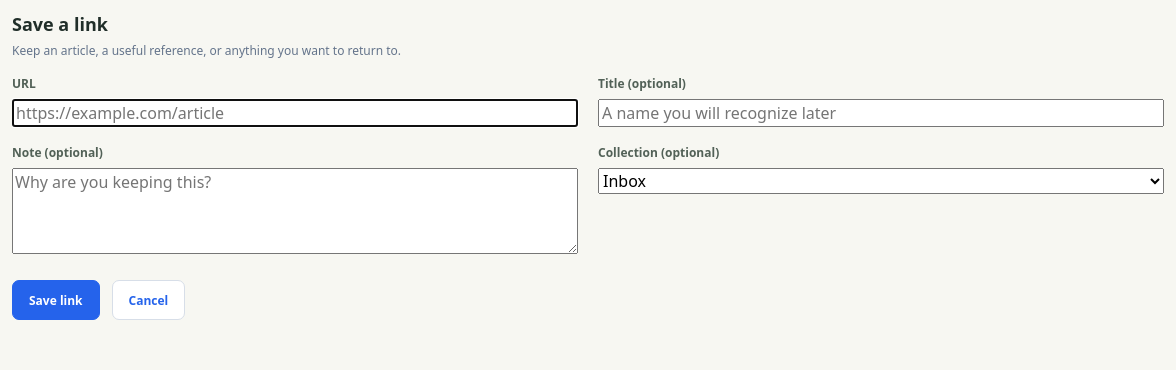
saves a canonical link with a note and an existing collection
Expected: the button "Save link" is enabled, [12,280,100,320]
Type "  A useful guide  " into the field labelled "Title (optional)" at (881, 113), box [598,99,1164,127]
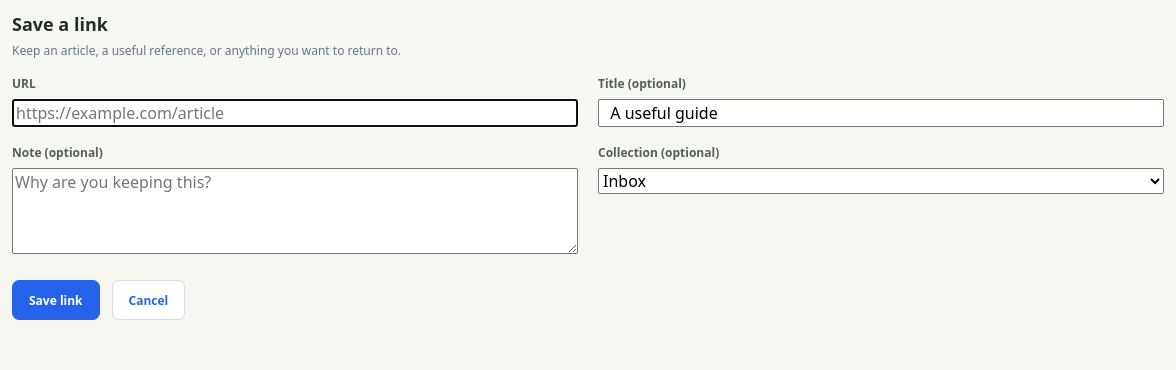
Type "  https://EXAMPLE.com:443/guide  " into the field labelled "URL" at (295, 113), box [12,99,578,127]
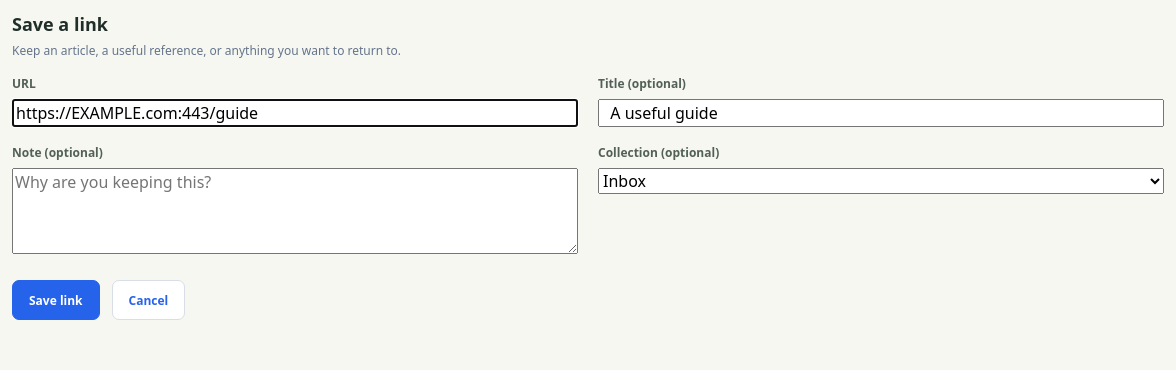
Type "  Read for Monday  " into the text box labelled "Note (optional)" at (295, 211), box [12,168,578,254]
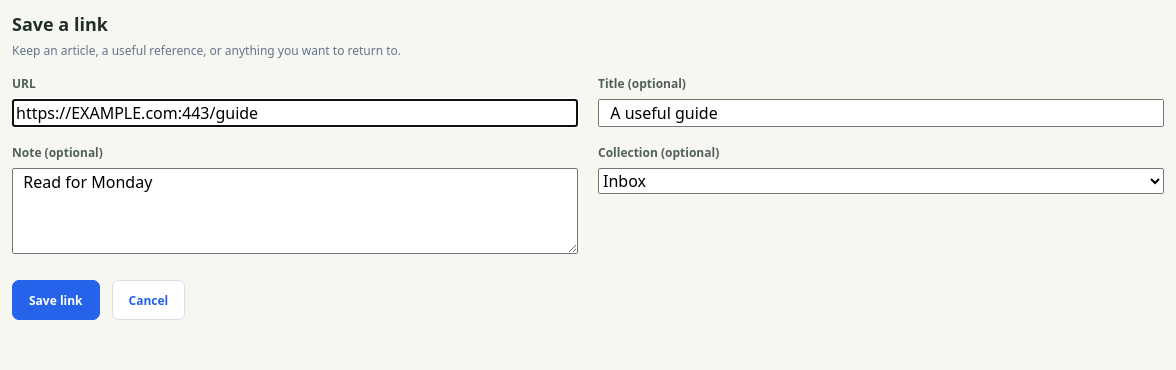
Select "Work research" in the dropdown labelled "Collection (optional)" at (881, 181), box [598,168,1164,194]
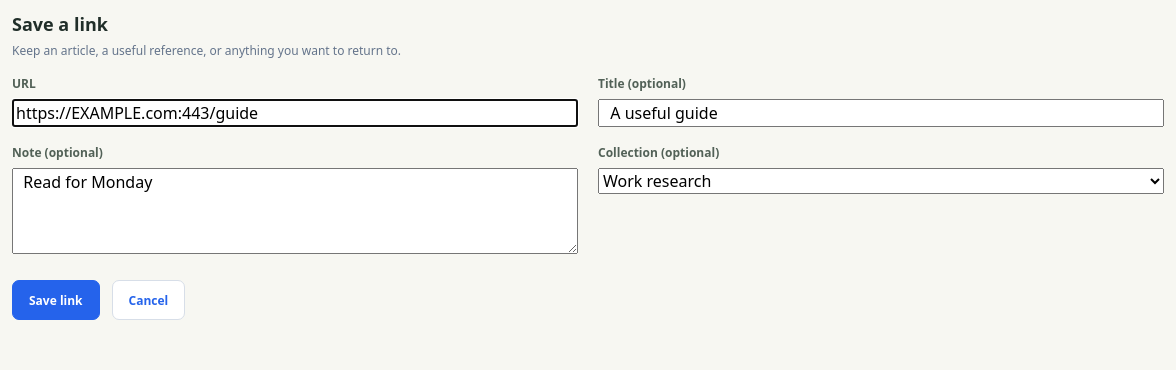
Click the button "Save link" at (56, 300), box [12,280,100,320]
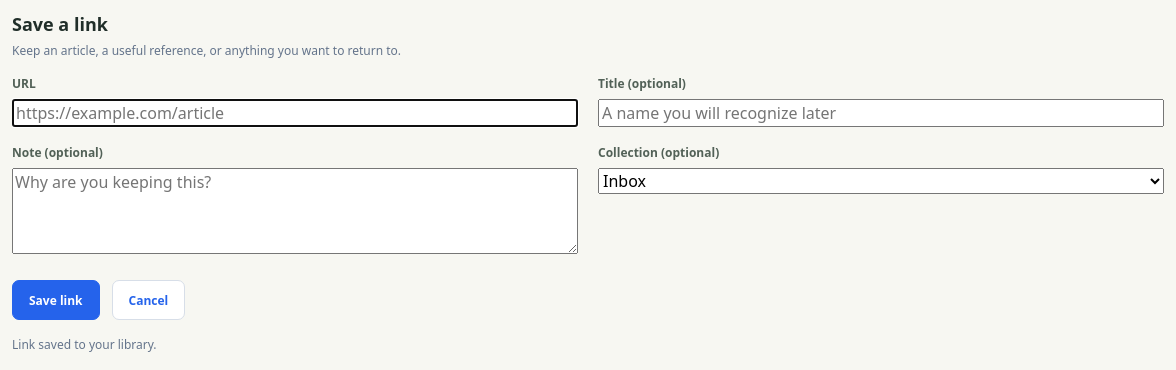
Expected: the message reads "Link saved to your library.", [12,336,157,353]
Expected: the field labelled "Title (optional)" is empty, [598,99,1164,127]
